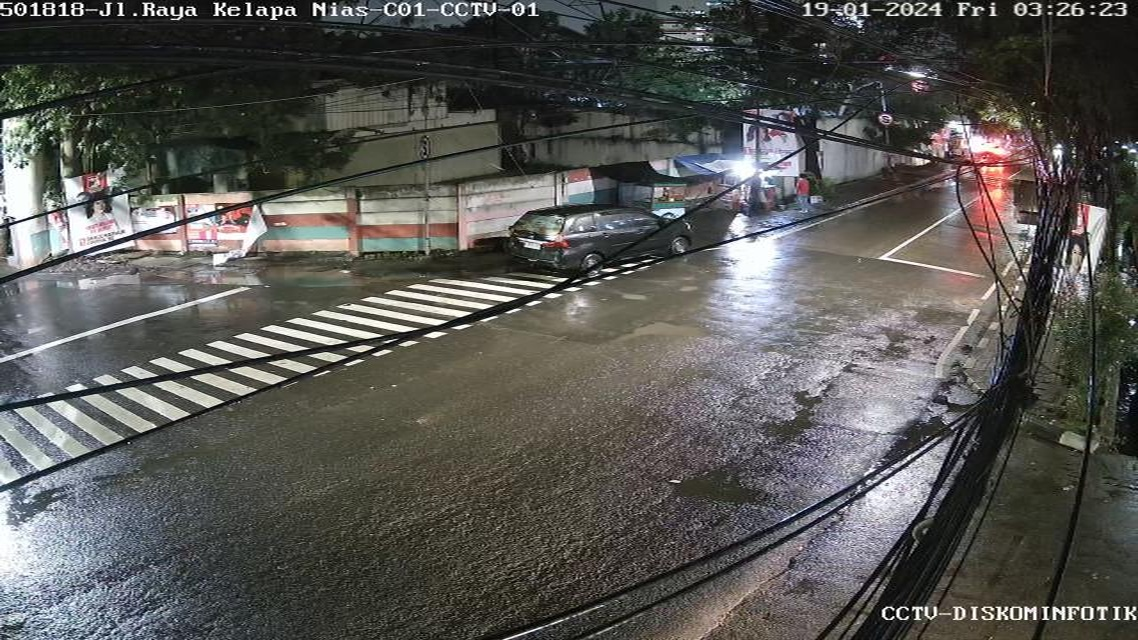Gerobak: (619, 183, 701, 218)
